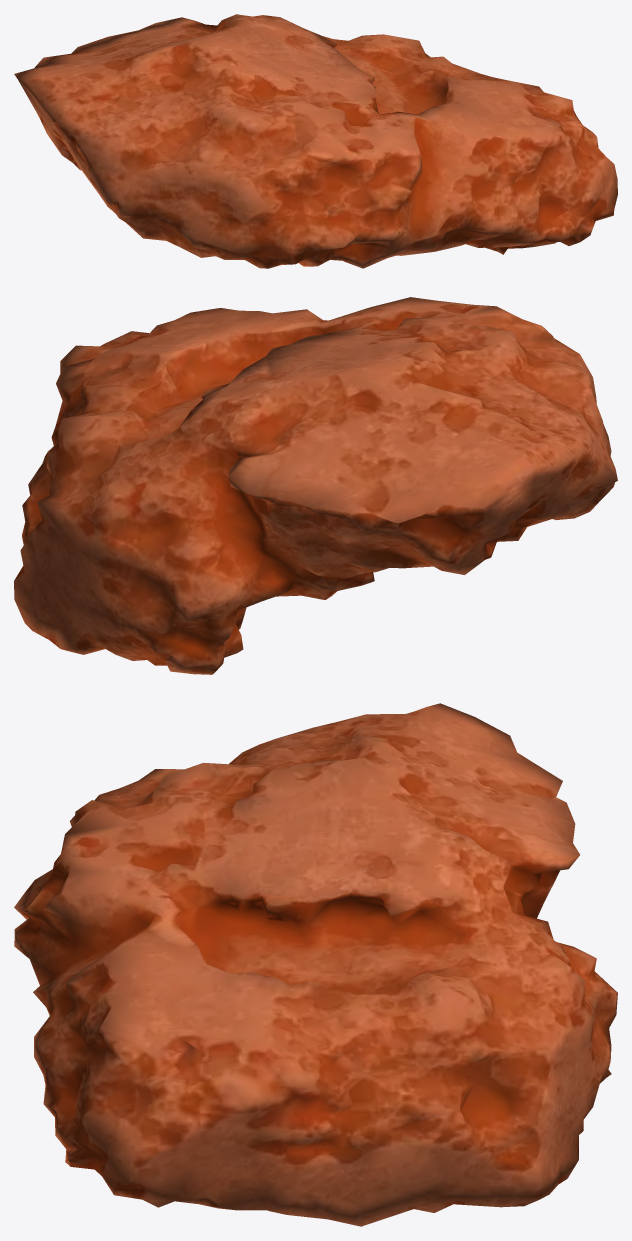
Rendered from 8c17b058-7d77-49ca-b038-1890e3f67892-eroded-desert-rock.glb.
3 renders of one model, top to bottom at view 1: azimuth 30°, elevation 25°; view 2: azimuth 150°, elevation 25°; view 3: azimuth 270°, elevation 25°, orthographic. The views are drawn at different scales.
Parts seen in each view (by area): view 1: rock3_low; view 2: rock3_low; view 3: rock3_low.
Boxes of the visible parts, <box> form: rock3_low: <box>14,14,617,268</box>; rock3_low: <box>14,297,617,674</box>; rock3_low: <box>14,703,617,1226</box>.
Size of the model in its own units: 536 by 245 by 455.
Materials: 1 (1 with a texture image).
